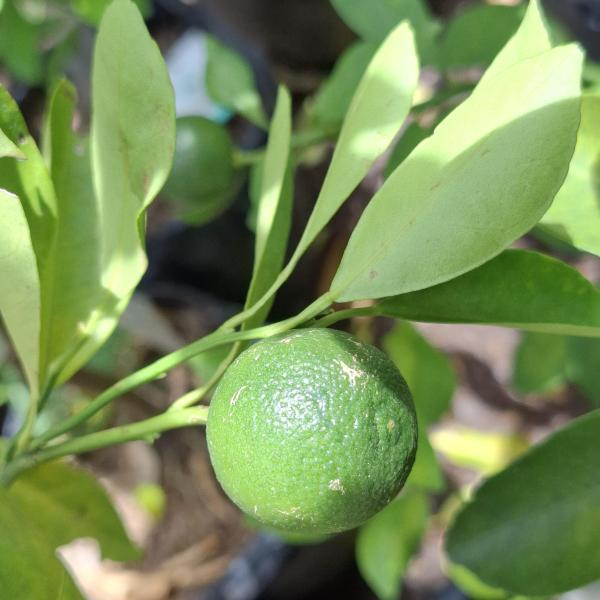Scab: (187, 312, 437, 562)
